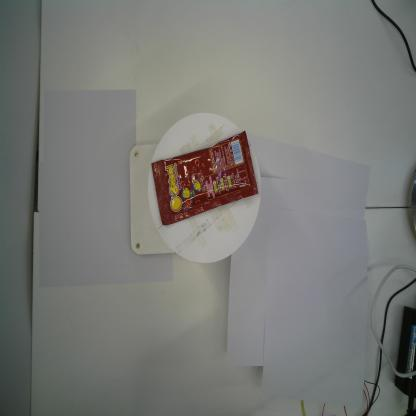Candy: (151, 129, 259, 226)
